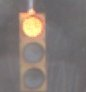Red: (14, 11, 54, 91)
